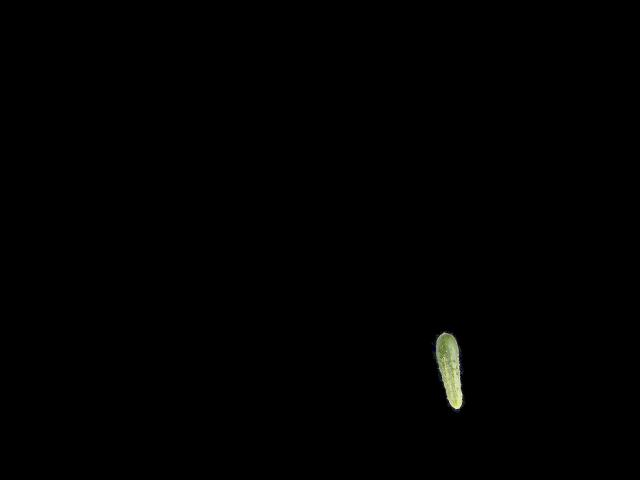cucumber: (431, 330, 468, 410)
